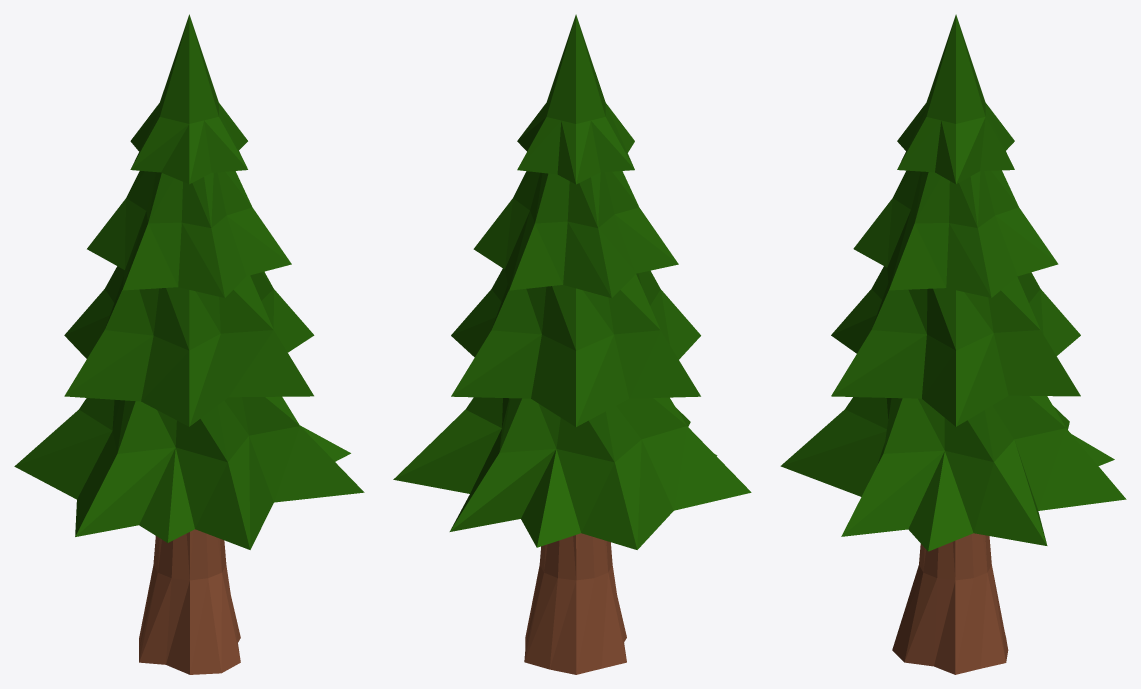
The model's file is Tree B.FBX.
3 renders of one model, left to right at view 1: azimuth 30°, elevation 25°; view 2: azimuth 150°, elevation 25°; view 3: azimuth 270°, elevation 25°, orthographic.
Visible parts, largest first — view 1: Cylinder003; view 2: Cylinder003; view 3: Cylinder003.
Boxes of the visible parts, x1,y1,x2,y2 form: Cylinder003: [14, 14, 364, 674]; Cylinder003: [393, 14, 751, 674]; Cylinder003: [780, 14, 1126, 674].
Size of the model in its own units: 1361 by 2822 by 1393.
1 material, 1 textured.
